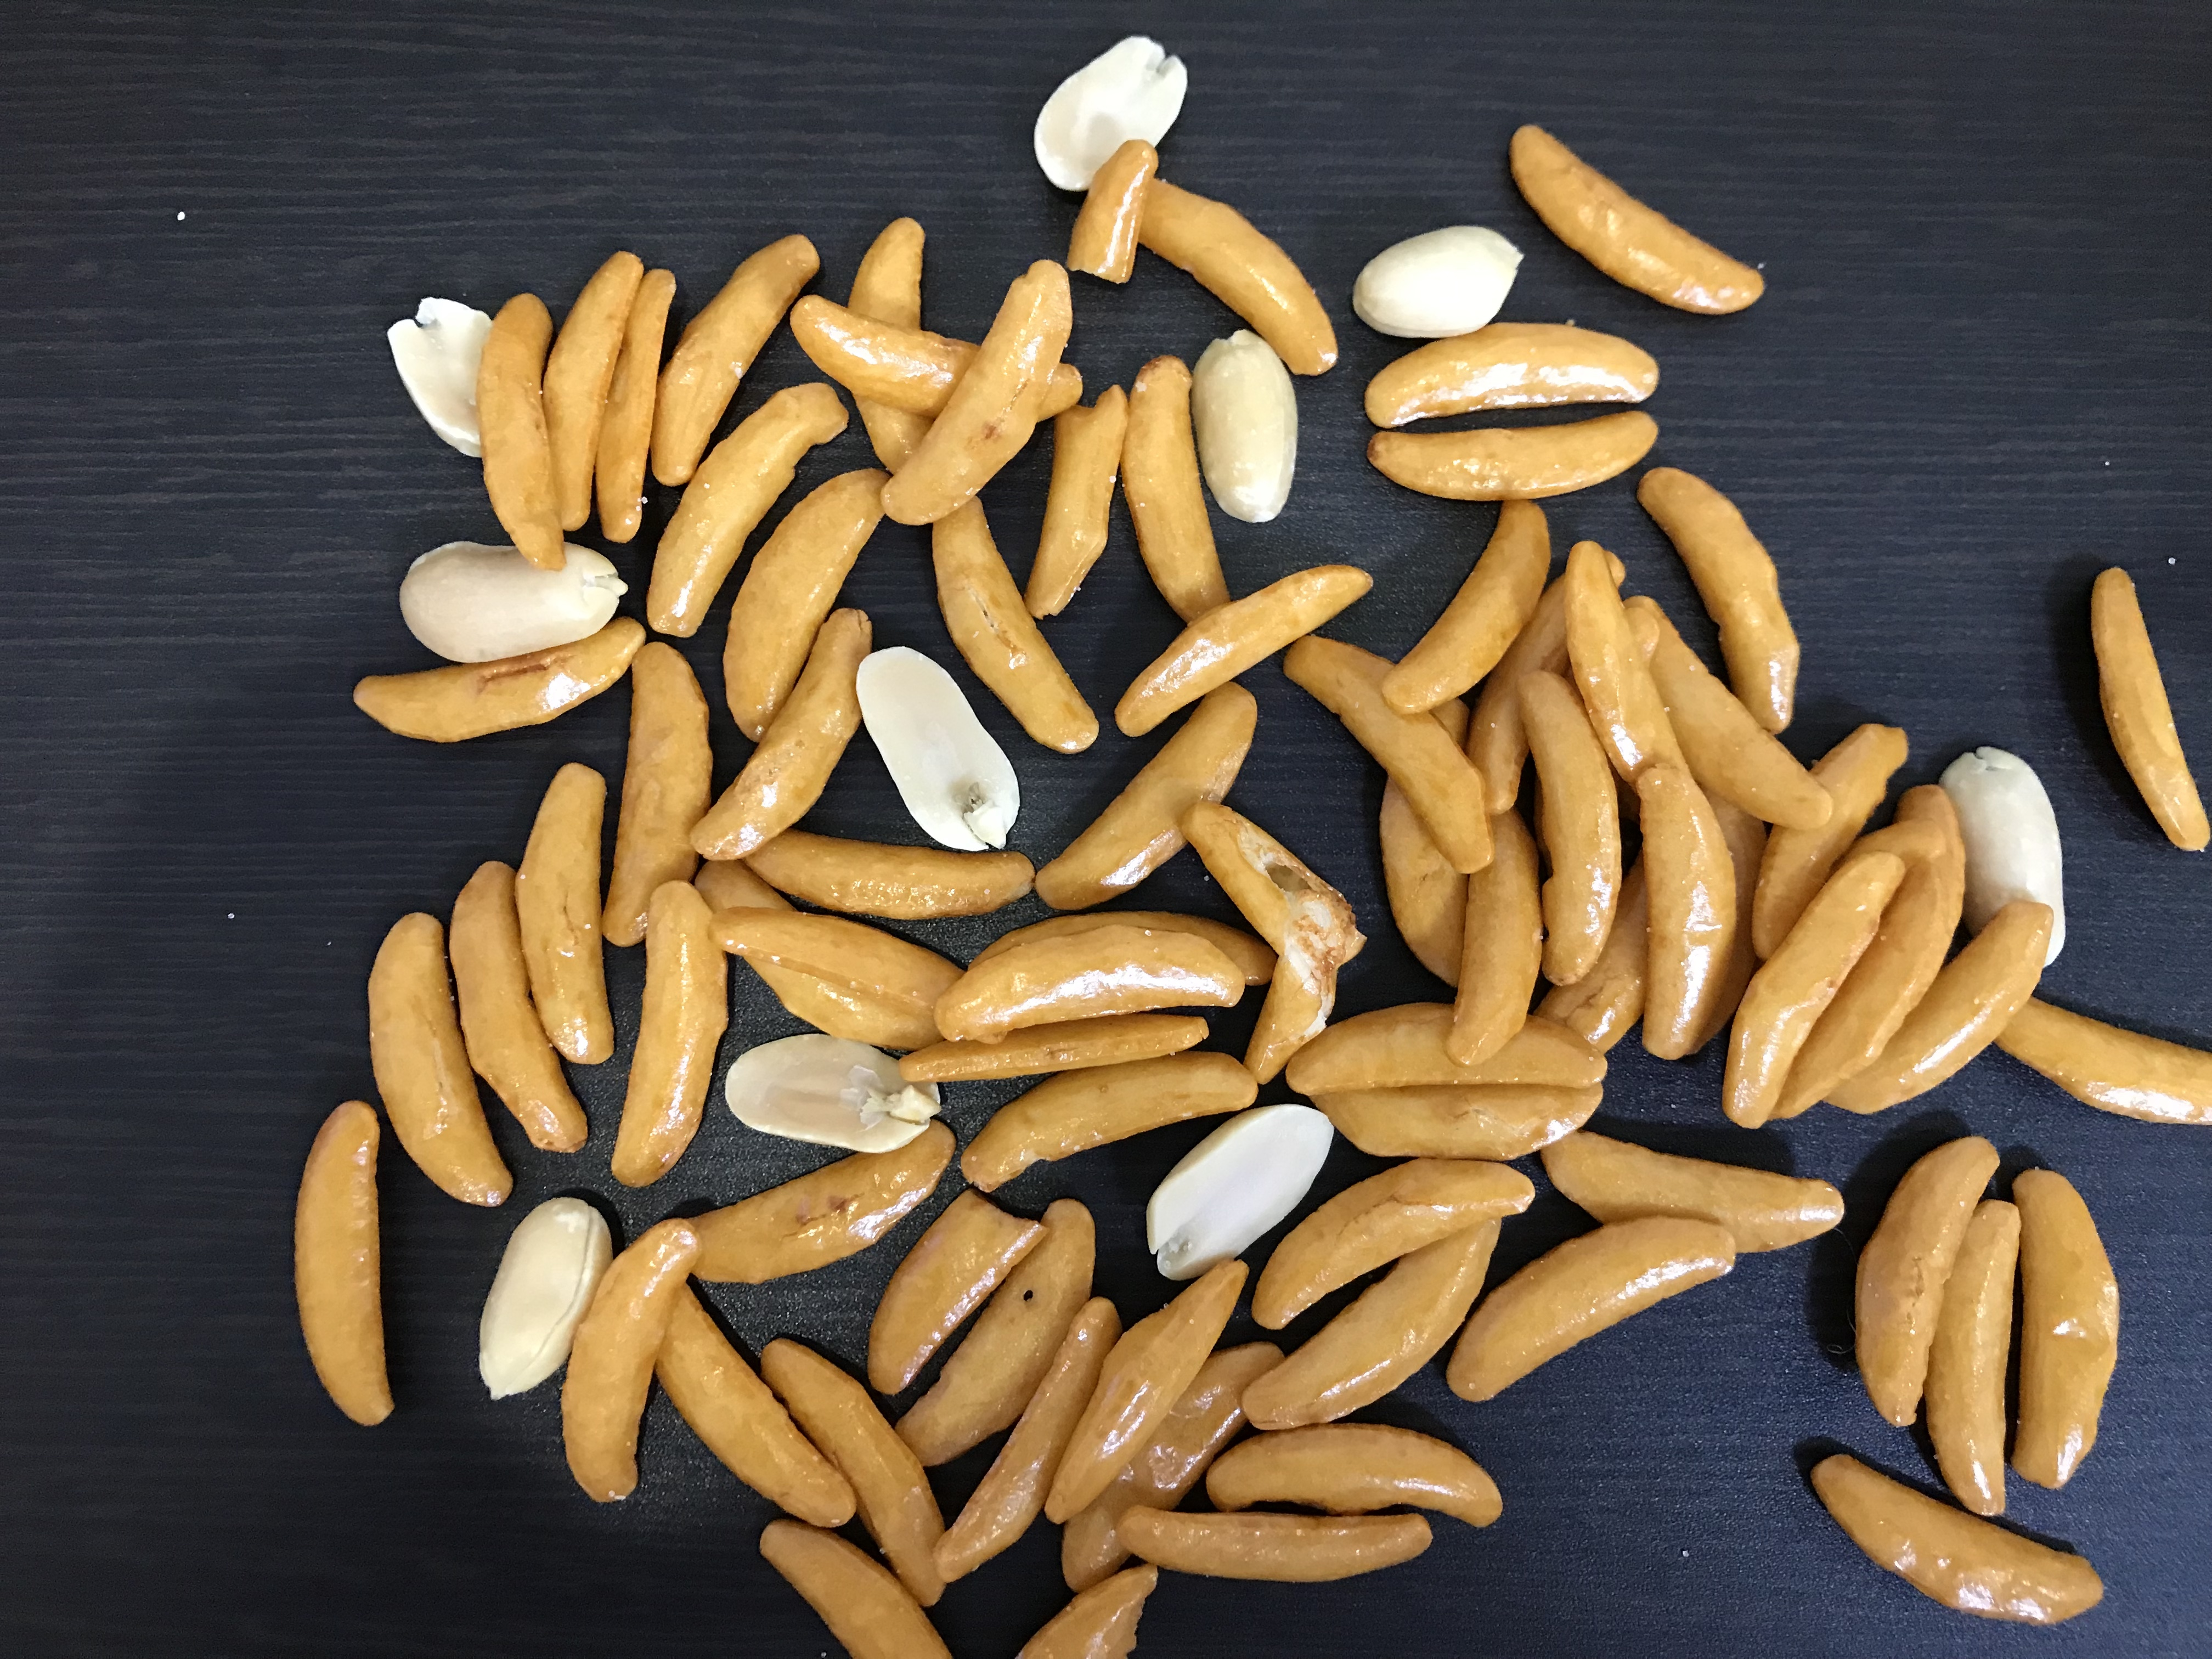peanut: (852, 643, 1026, 861), (1146, 1100, 1341, 1277), (470, 1192, 613, 1405), (1940, 742, 2073, 965), (395, 542, 629, 667), (1028, 28, 1193, 192), (719, 1032, 944, 1152), (1350, 221, 1533, 349), (1186, 329, 1298, 533), (383, 288, 496, 460)
